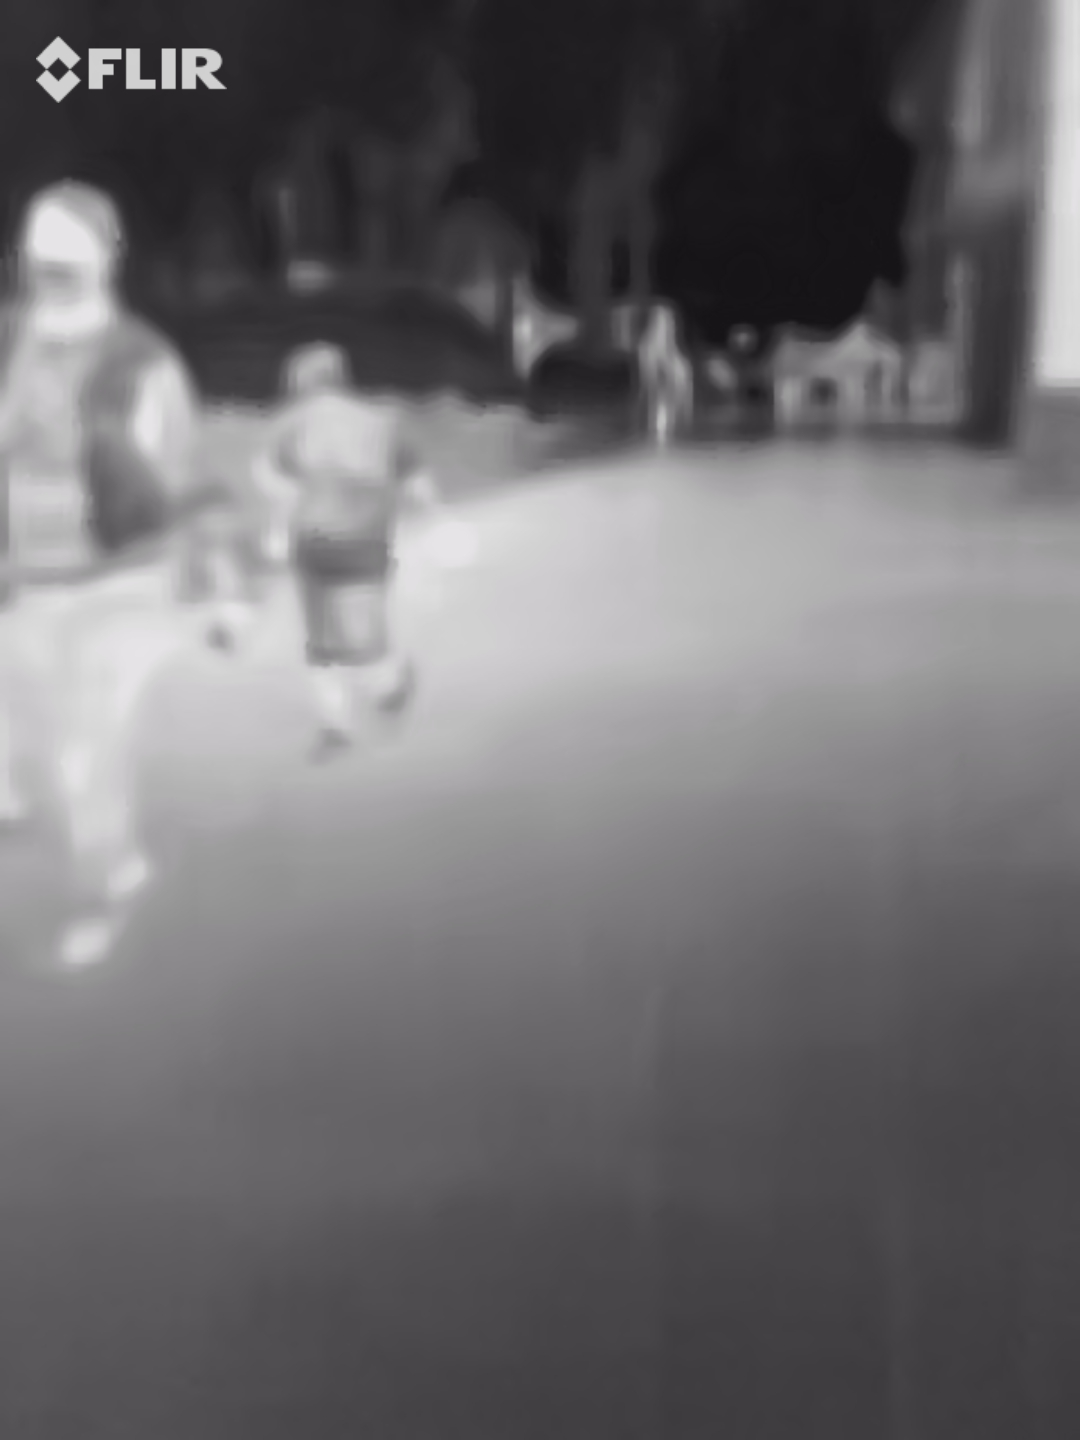head: (12, 181, 129, 315)
